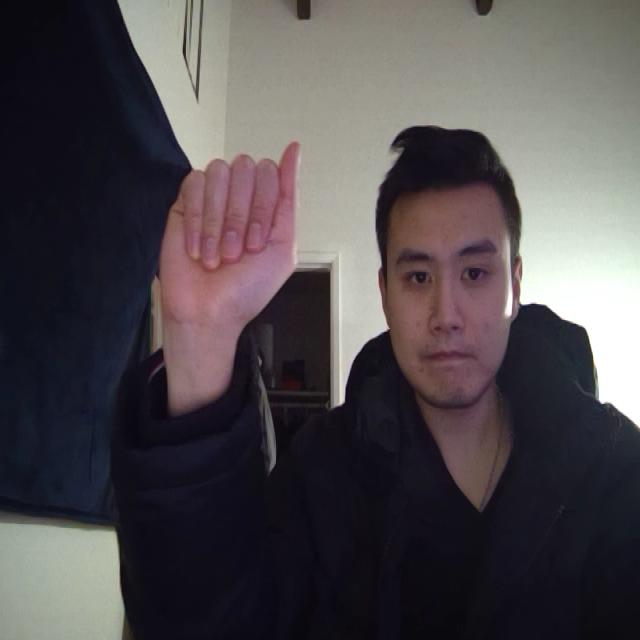A: (143, 118, 341, 399)
